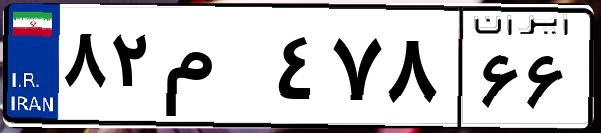2: (110, 28, 158, 98)
4: (270, 28, 330, 110)
6: (475, 38, 525, 113), (525, 38, 570, 115)
7: (330, 28, 385, 110)
8: (385, 28, 445, 110), (57, 26, 110, 100)
م: (158, 20, 270, 120)
